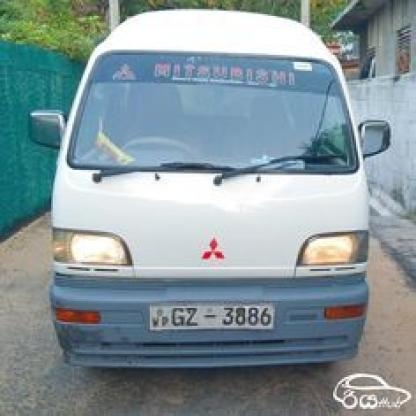number plate: (149, 304, 276, 327)
van front: (26, 0, 393, 377)
